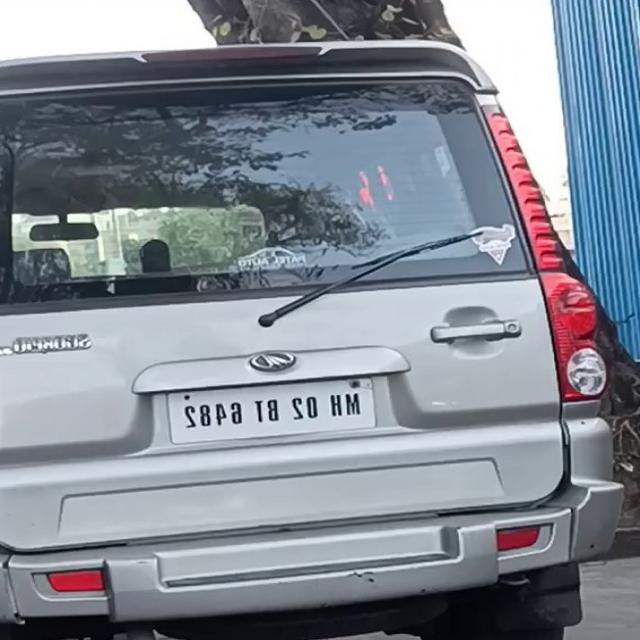license_plate: (158, 369, 388, 453)
